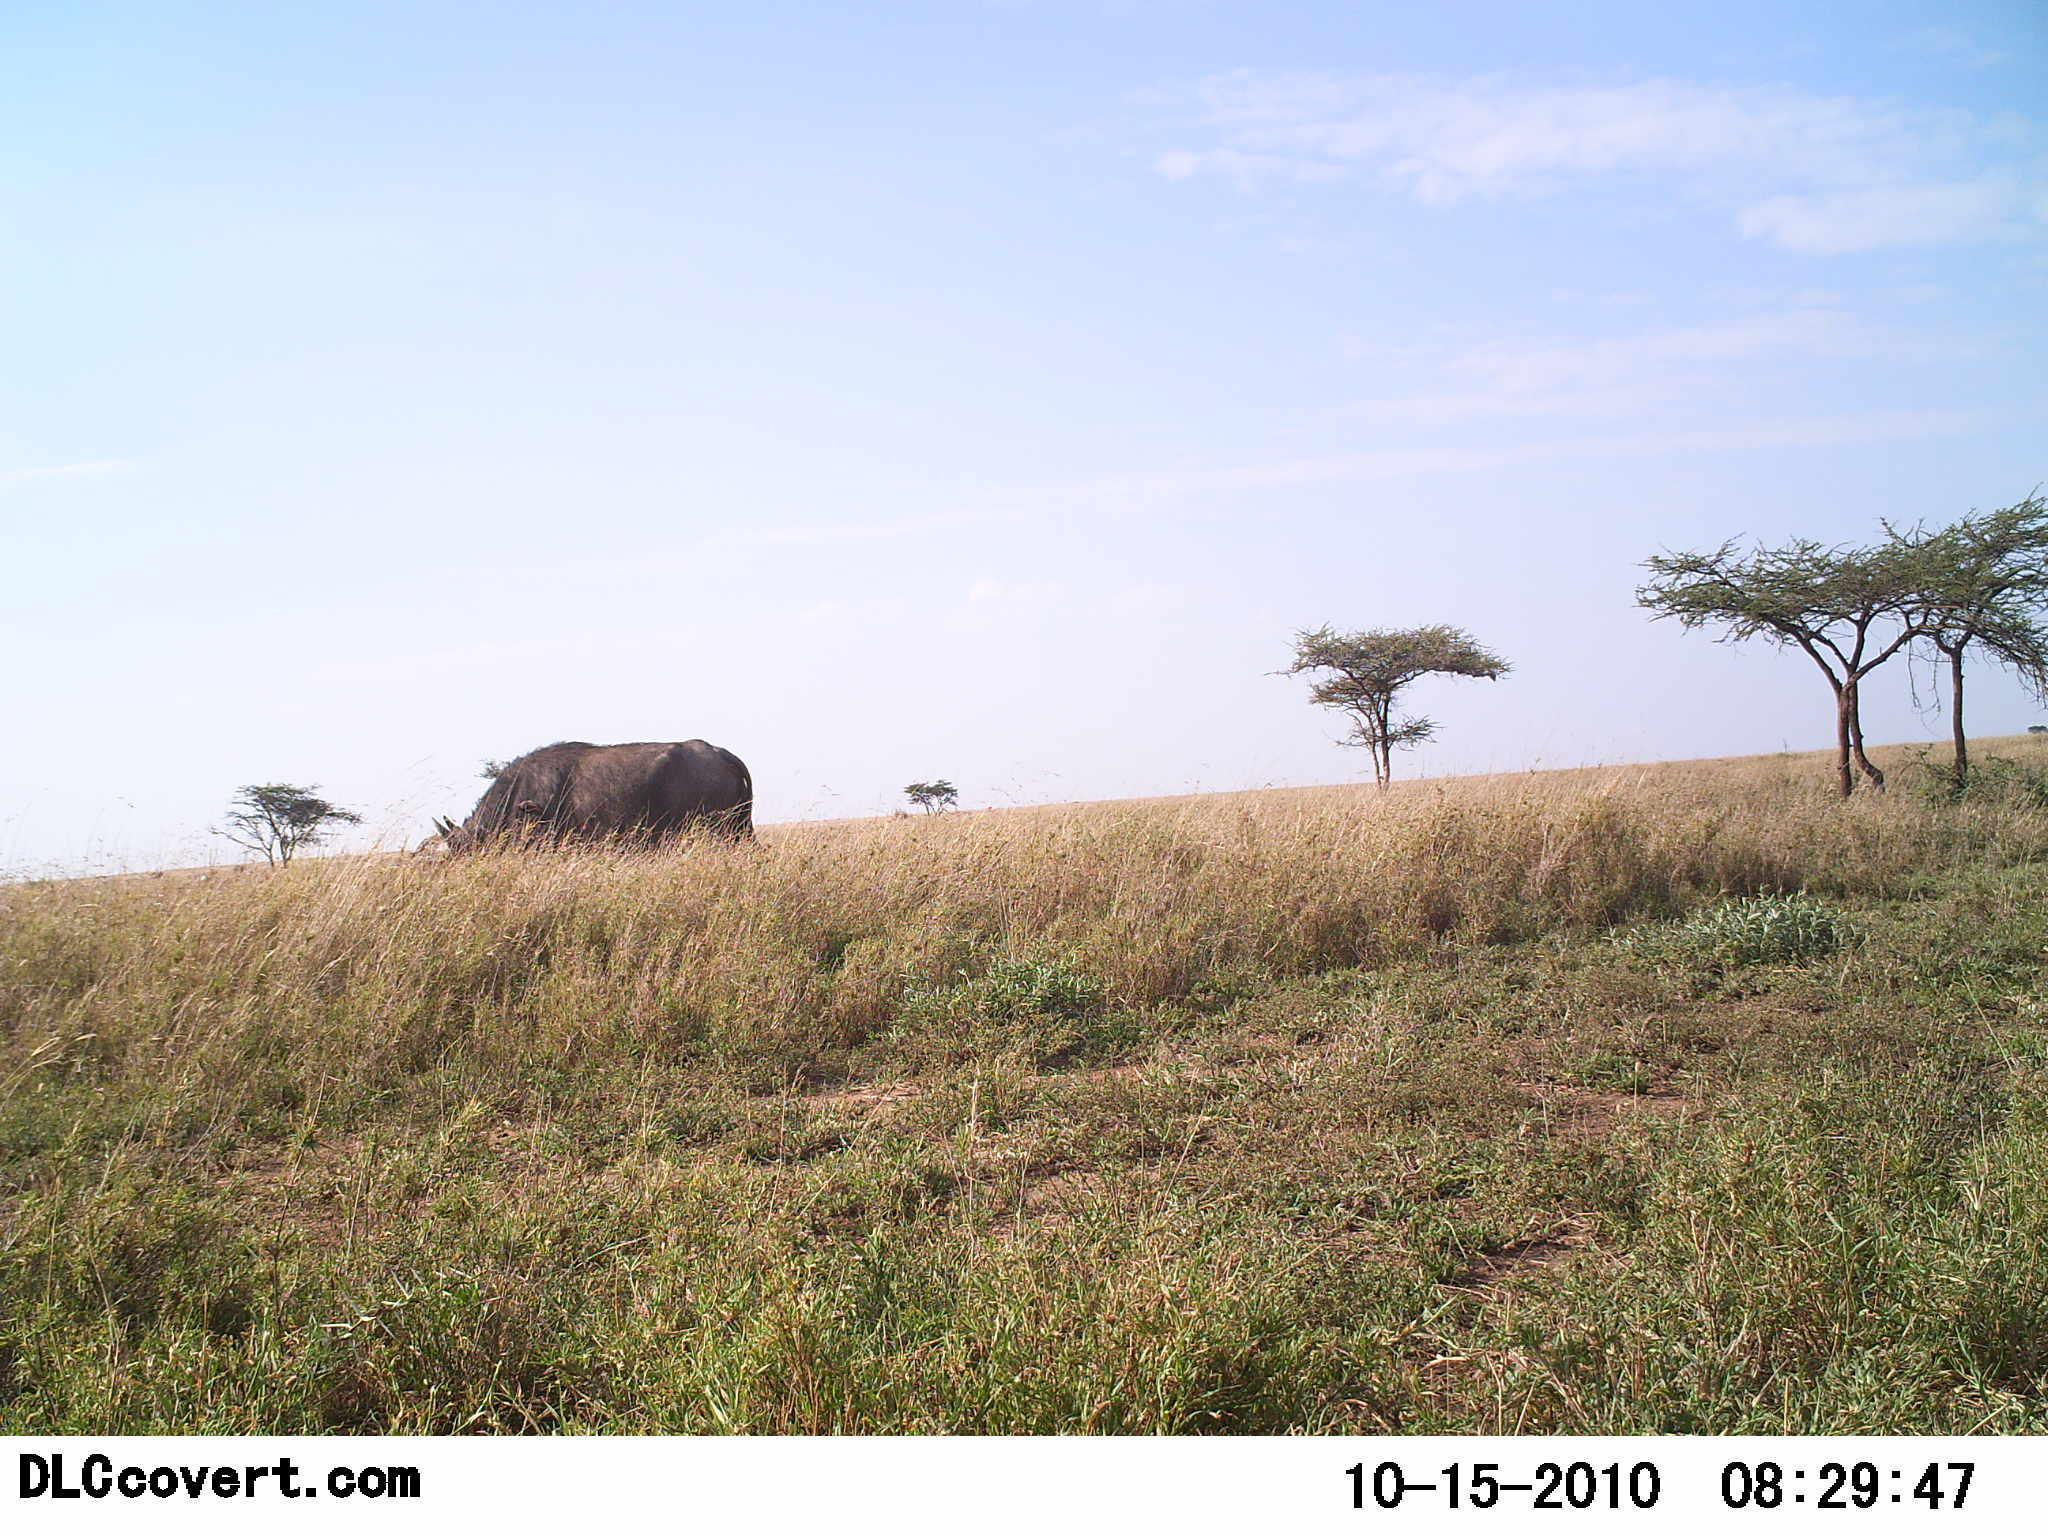rhinoceros: (409, 722, 770, 888)
